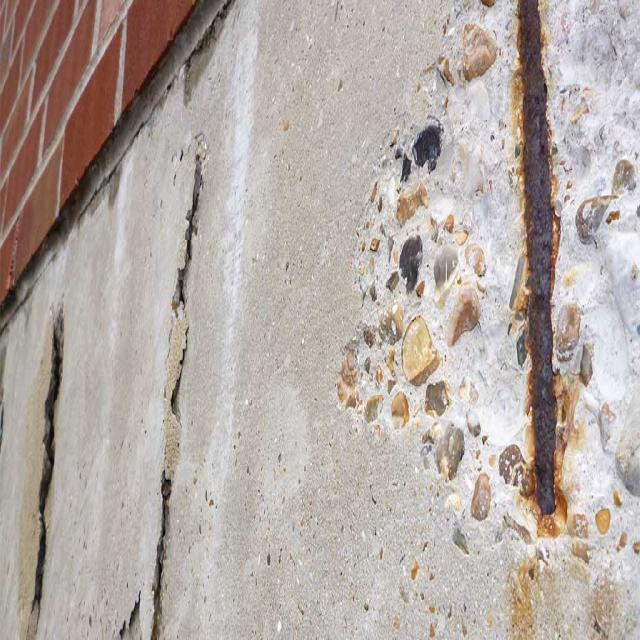Rebar: (338, 0, 638, 595)
vertical crack: (151, 155, 202, 640), (27, 300, 64, 640)
